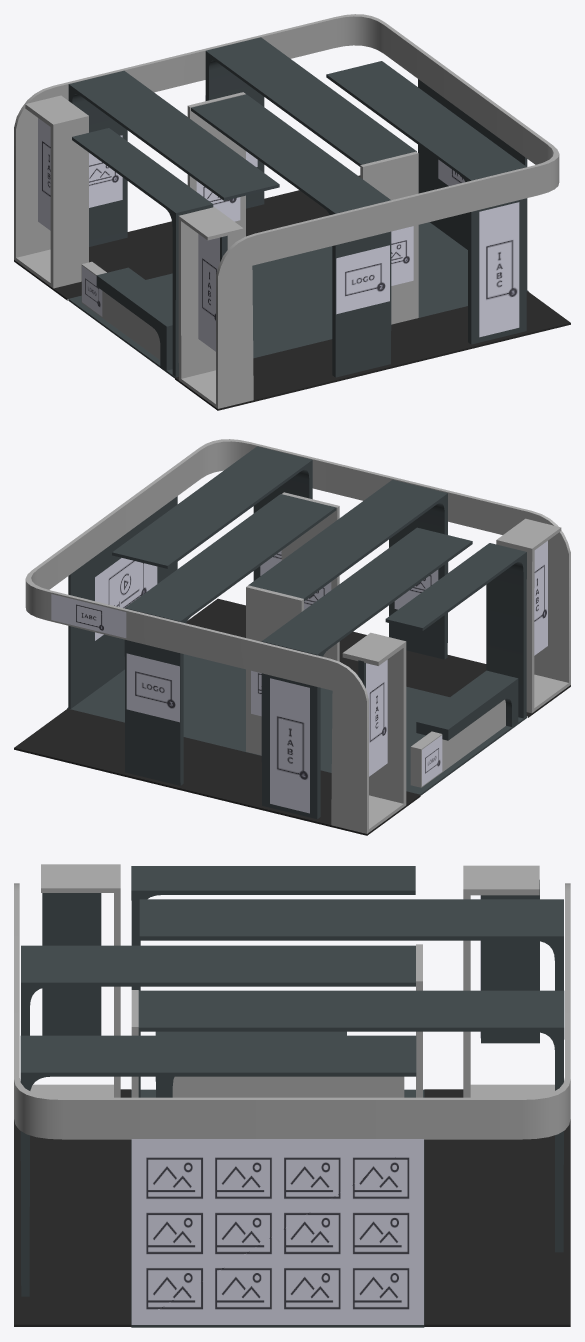
Rendered from stant11.gltf.
The picture shows the model from 3 angles, top to bottom: view 1: azimuth 30°, elevation 25°; view 2: azimuth 150°, elevation 25°; view 3: azimuth 270°, elevation 25°; orthographic projection. The views are drawn at different scales.
Parts seen in each view (by area): view 1: modrenk1, modrenk2, modzemin, moddikyazi3, modlogo2, moddikyazi1, moddikyazi2, moddikgorsel8, moddikgorsel6, modlogo1, moddikgorsel7; view 2: modrenk1, modrenk2, modzemin, moddikyazi4, modlogo3, modvideo1, moddikyazi2, modyazi1, moddikyazi1, modlogo1, moddikgorsel5; view 3: modrenk1, modgenisgorsel, modzemin, modrenk2.
Part boxes in pixels (<box>): modrenk1: <box>68,37,528,378</box>; modrenk2: <box>14,14,559,408</box>; modzemin: <box>14,175,570,410</box>; moddikyazi3: <box>479,202,519,337</box>; modlogo2: <box>336,245,389,314</box>; moddikyazi1: <box>198,234,219,351</box>; moddikyazi2: <box>38,118,50,230</box>; moddikgorsel8: <box>89,135,122,207</box>; moddikgorsel6: <box>391,226,413,285</box>; modlogo1: <box>82,266,102,316</box>; moddikgorsel7: <box>196,181,240,221</box>; modrenk1: <box>67,446,527,819</box>; modrenk2: <box>25,439,570,833</box>; modzemin: <box>14,598,570,835</box>; moddikyazi4: <box>270,678,309,813</box>; modlogo3: <box>126,653,179,722</box>; modvideo1: <box>95,558,157,640</box>; moddikyazi2: <box>366,659,387,776</box>; modyazi1: <box>51,594,126,637</box>; moddikyazi1: <box>534,541,547,655</box>; modlogo1: <box>422,735,442,785</box>; moddikgorsel5: <box>394,569,438,609</box>; modrenk1: <box>20,866,564,1327</box>; modgenisgorsel: <box>131,1139,423,1324</box>; modzemin: <box>14,1089,570,1326</box>; modrenk2: <box>14,864,570,1139</box>.
Size of what is drawn, in the model's own units: 1 by 0.4507 by 1.
Materials: 21 (18 with a texture image).
